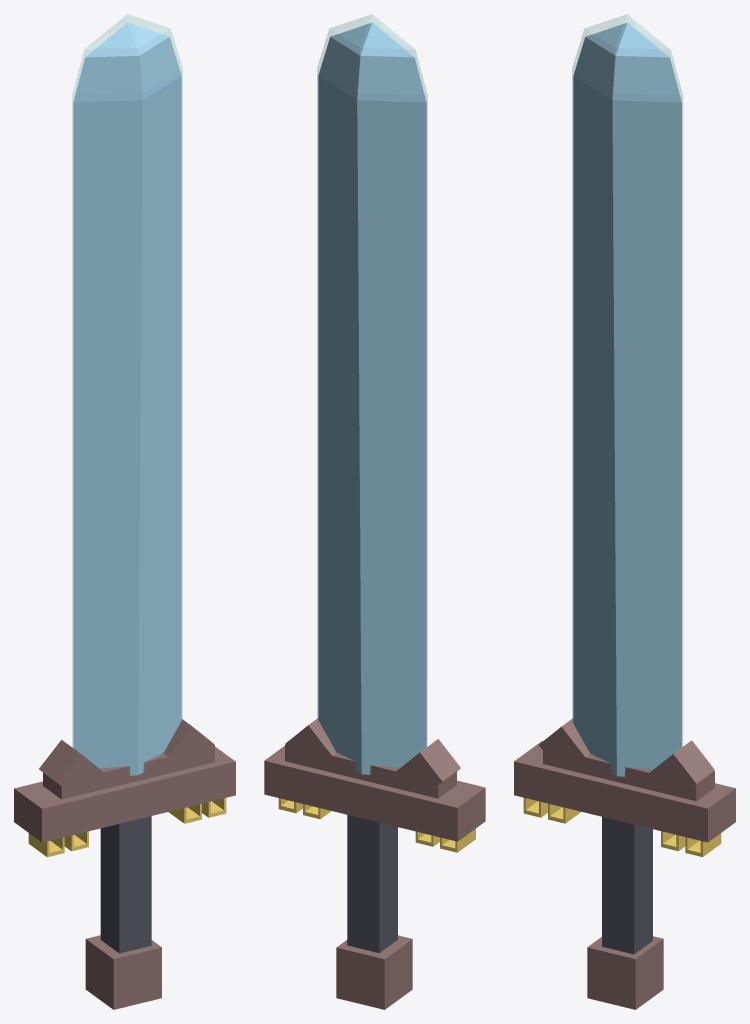
3 renders of one model, left to right at view 1: azimuth 30°, elevation 25°; view 2: azimuth 150°, elevation 25°; view 3: azimuth 330°, elevation 25°, orthographic.
Parts seen in each view (by area): view 1: Ancient Sword; view 2: Ancient Sword; view 3: Ancient Sword.
Part boxes in pixels (x1,y1,x2,y2): Ancient Sword: [14, 14, 235, 1009]; Ancient Sword: [264, 14, 485, 1009]; Ancient Sword: [514, 14, 735, 1009].
Size of the model in its own units: 120 by 580 by 32.99.
